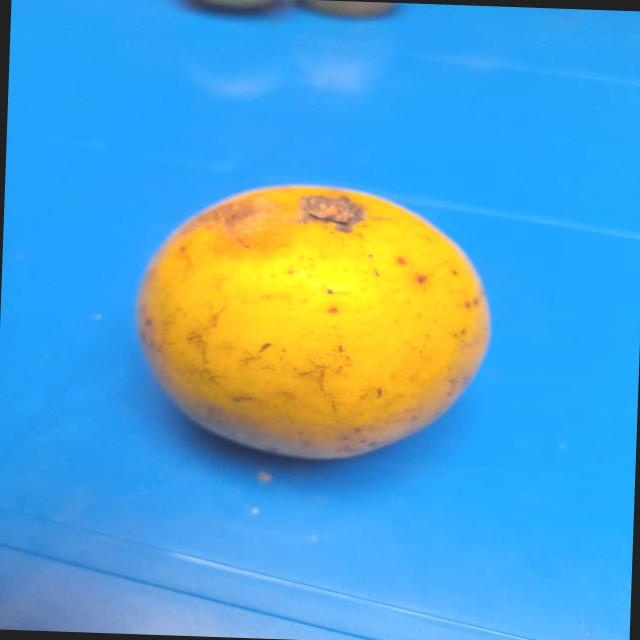agrume: (125, 170, 502, 472)
